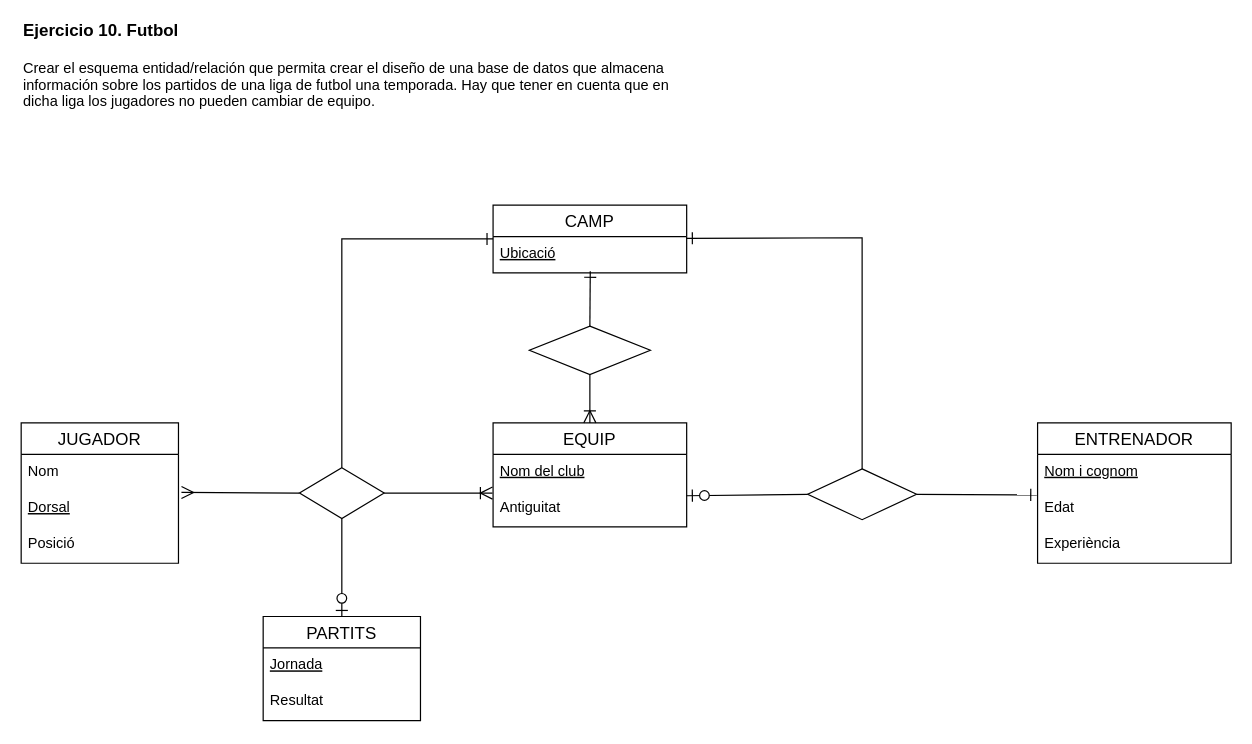
This 1252x744 diagram has some shape labels left out. Each missing label, with the centre of its shape:
"entrenar" goes at point (861, 494).
"juga" goes at point (341, 492).
"propietat" goes at point (589, 349).
